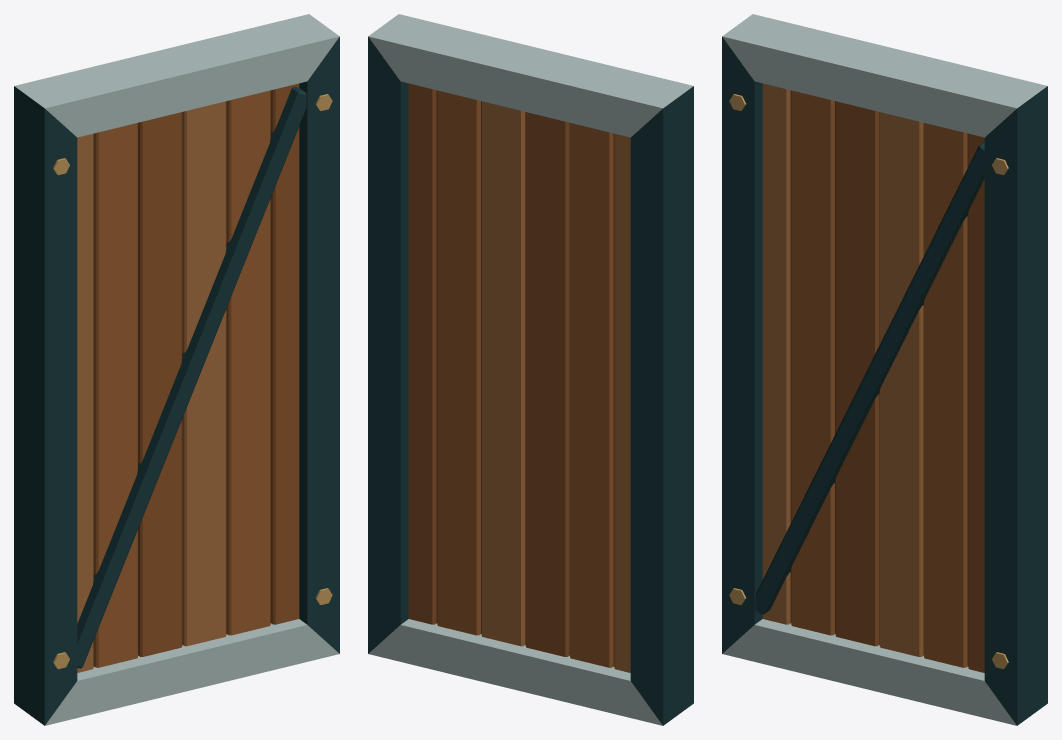
Rendered from wall_1m.glb.
3 views of the same model, side by side, from view 1: azimuth 30°, elevation 25°; view 2: azimuth 150°, elevation 25°; view 3: azimuth 330°, elevation 25° (orthographic).
Parts seen in each view (by area): view 1: SM_Wall_1m; view 2: SM_Wall_1m; view 3: SM_Wall_1m.
Boxes of the visible parts, x1,y1,x2,y2 form: SM_Wall_1m: [14, 14, 339, 725]; SM_Wall_1m: [368, 14, 693, 725]; SM_Wall_1m: [722, 14, 1047, 725].
Size of the model in its own units: 1 by 2 by 0.187.
